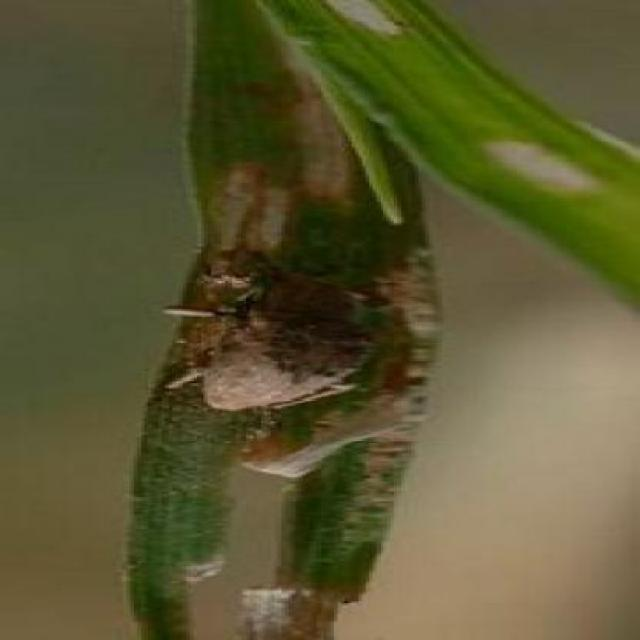rice-bug: (152, 263, 386, 408)
